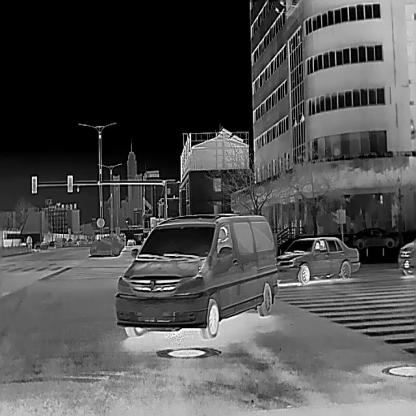car: (114, 211, 278, 339), (276, 235, 360, 284), (352, 226, 403, 247), (398, 240, 415, 274), (126, 238, 137, 245)
